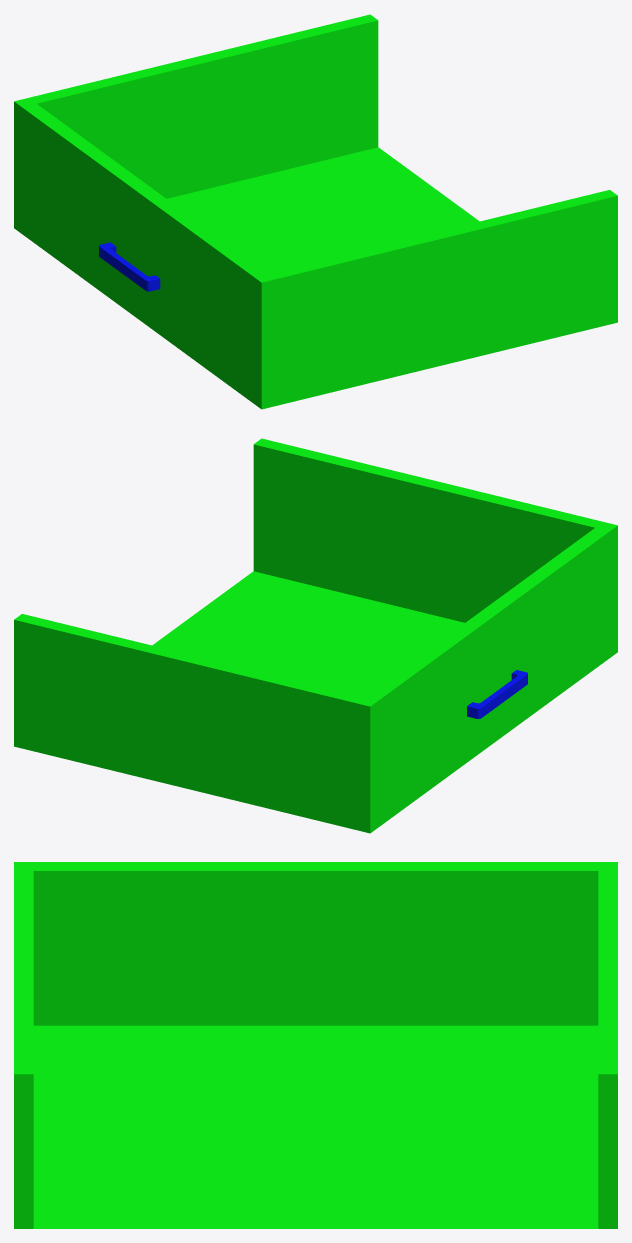
The model's file is Desk_DrawerDoor.fbx.
The picture shows the model from 3 angles, top to bottom: view 1: azimuth 30°, elevation 25°; view 2: azimuth 150°, elevation 25°; view 3: azimuth 270°, elevation 25°; orthographic projection. The views are drawn at different scales.
Visible parts, largest first — view 1: Desk_DrawerDoor; view 2: Desk_DrawerDoor; view 3: Desk_DrawerDoor.
Boxes of the visible parts, <box> form: Desk_DrawerDoor: <box>14,14,617,409</box>; Desk_DrawerDoor: <box>14,438,617,833</box>; Desk_DrawerDoor: <box>14,862,617,1228</box>.
Size of the model in its own units: 39.88 by 13.09 by 46.34.
